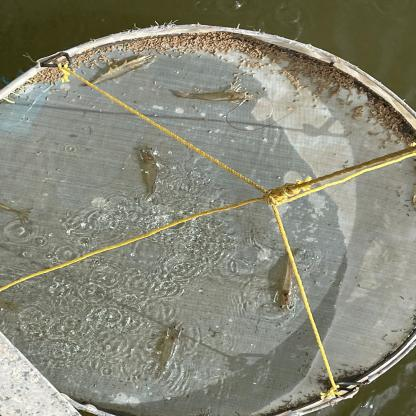shrimp: (154, 323, 186, 380), (132, 144, 159, 202), (278, 247, 301, 314), (174, 90, 258, 103)
